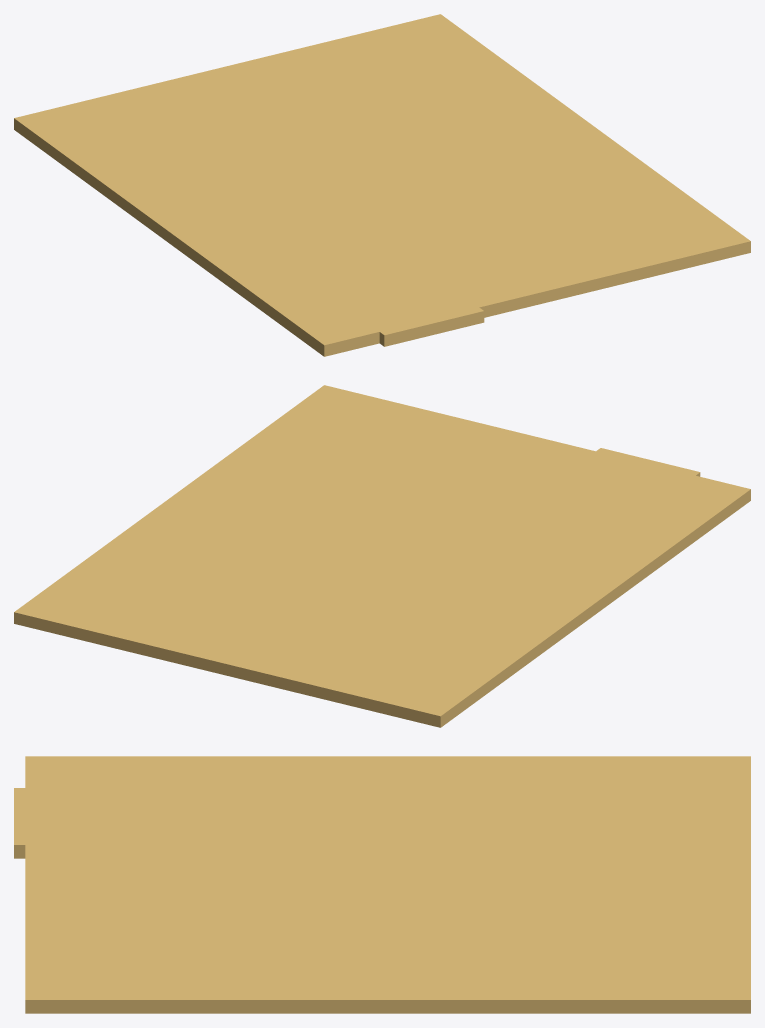
Rendered from Joglo_part_205.fbx.
3 renders of one model, top to bottom at view 1: azimuth 30°, elevation 25°; view 2: azimuth 150°, elevation 25°; view 3: azimuth 270°, elevation 25°, orthographic. The views are drawn at different scales.
Parts seen in each view (by area): view 1: Mesh27_Paint___Golden_Ochre_0.001; view 2: Mesh27_Paint___Golden_Ochre_0.001; view 3: Mesh27_Paint___Golden_Ochre_0.001.
Part boxes in pixels (x1,y1,x2,y2): Mesh27_Paint___Golden_Ochre_0.001: (14,14,750,356); Mesh27_Paint___Golden_Ochre_0.001: (14,385,750,727); Mesh27_Paint___Golden_Ochre_0.001: (14,756,750,1013).
Bounding box in the file's own units: 152 × 3.94 × 194.
